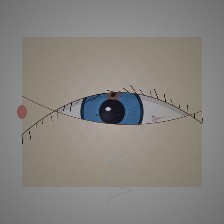foreign_body_visible: (100, 84, 127, 106)
